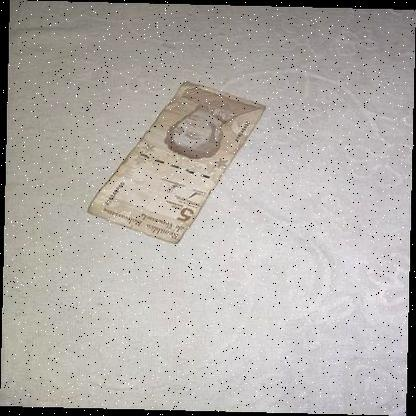five-front-vef: (87, 80, 267, 244)
